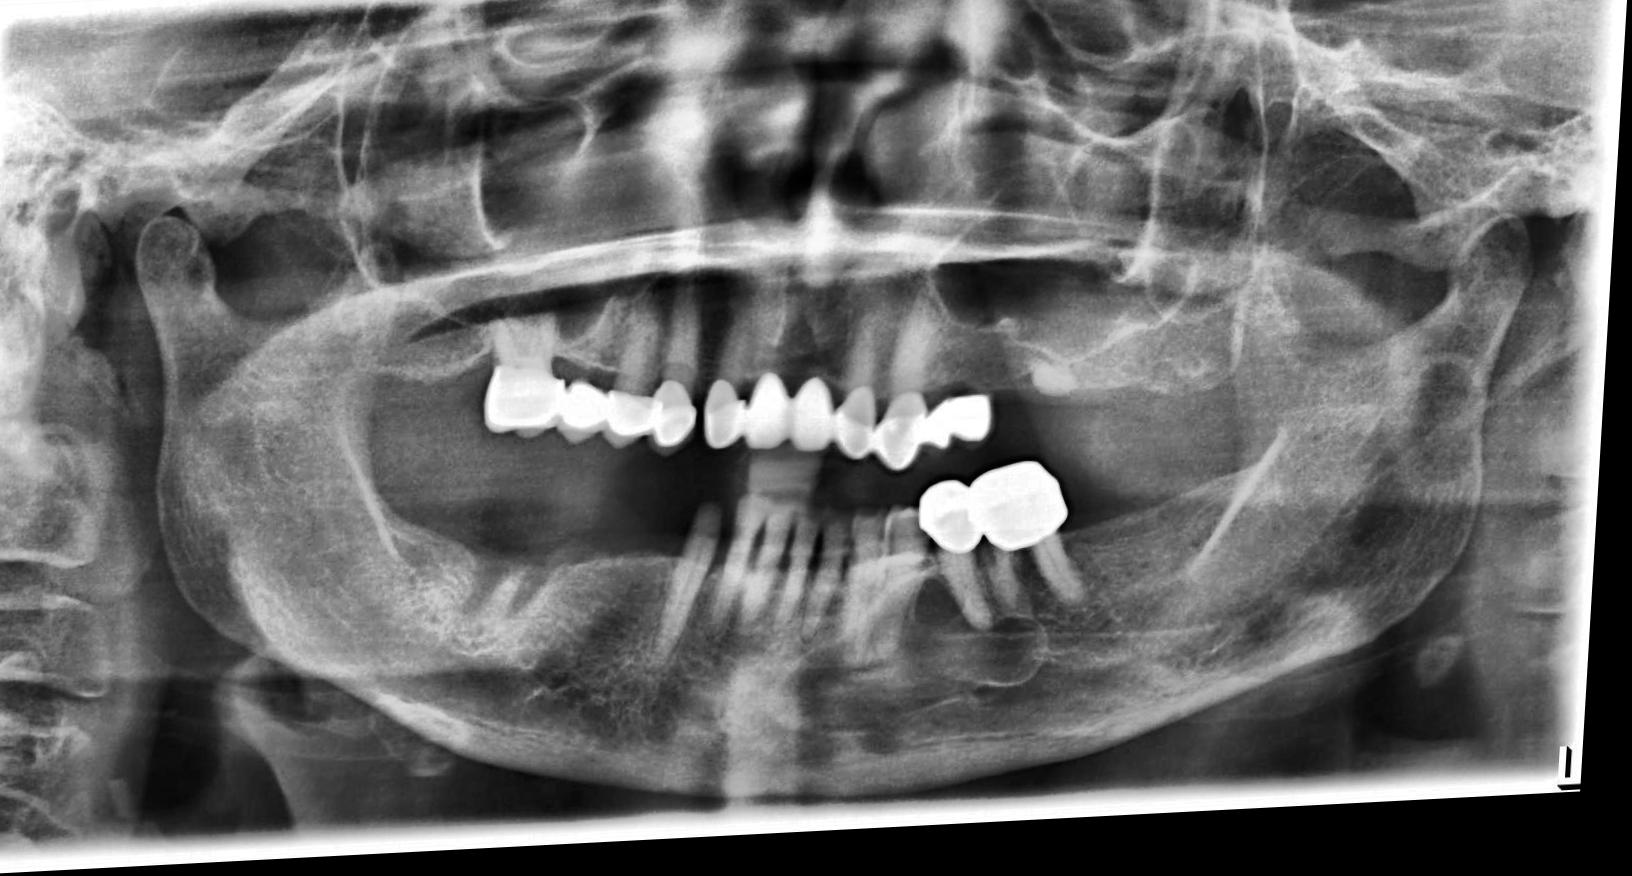keratokist: (777, 570, 1061, 749)
